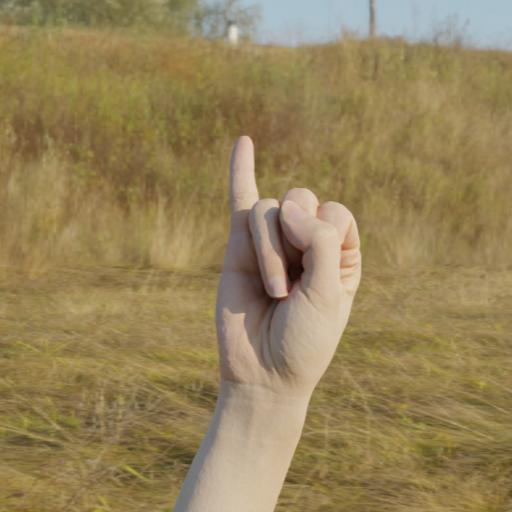I: (202, 126, 370, 421)
